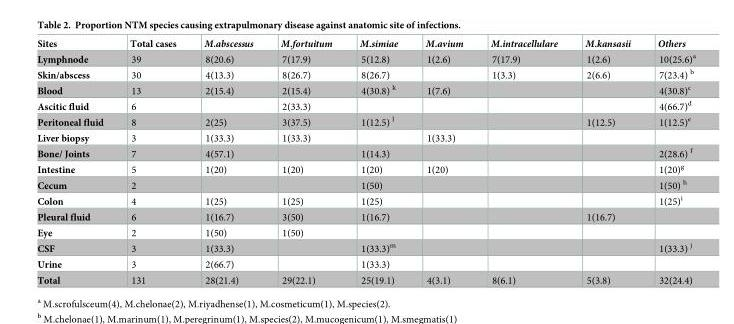table: (36, 36, 694, 285)
table column: (476, 36, 570, 285), (36, 36, 116, 285), (266, 36, 345, 285), (189, 36, 266, 285), (116, 36, 189, 285), (570, 36, 643, 285), (410, 36, 476, 285), (345, 36, 410, 285), (643, 36, 694, 285)
table column header: (36, 36, 694, 50)
table row: (36, 113, 694, 130), (36, 192, 694, 209), (36, 239, 694, 256), (36, 50, 694, 66), (36, 81, 694, 97), (36, 97, 694, 113), (36, 144, 694, 160), (36, 160, 694, 176), (36, 176, 694, 192), (36, 256, 694, 272), (36, 66, 694, 81), (36, 209, 694, 224), (36, 224, 694, 239), (36, 36, 694, 50), (36, 130, 694, 144), (36, 272, 694, 285)
